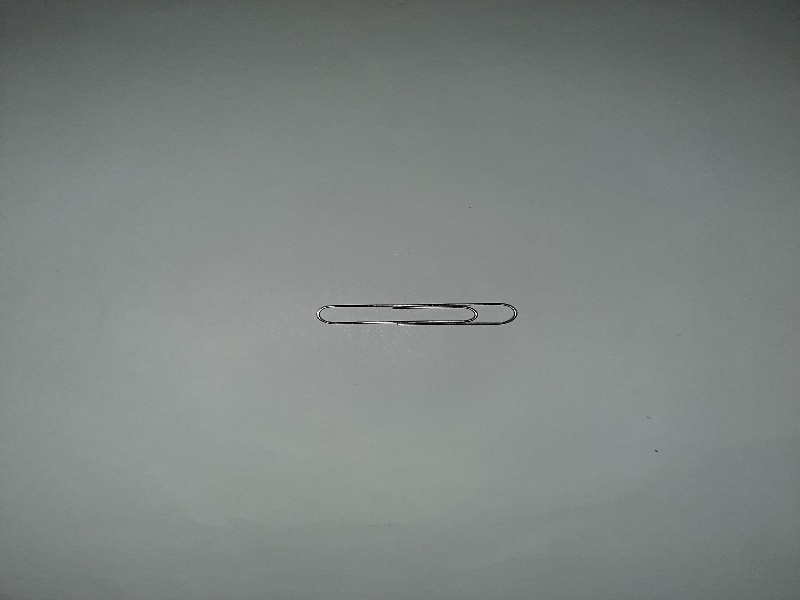Big Jumpclip: (312, 291, 523, 333)
